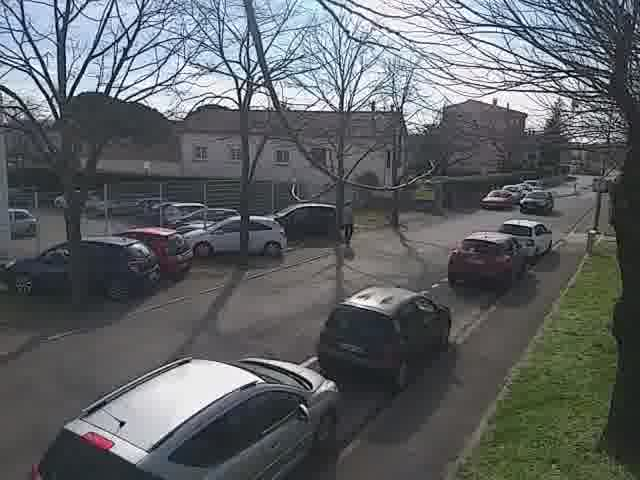persona: (338, 191, 359, 245)
